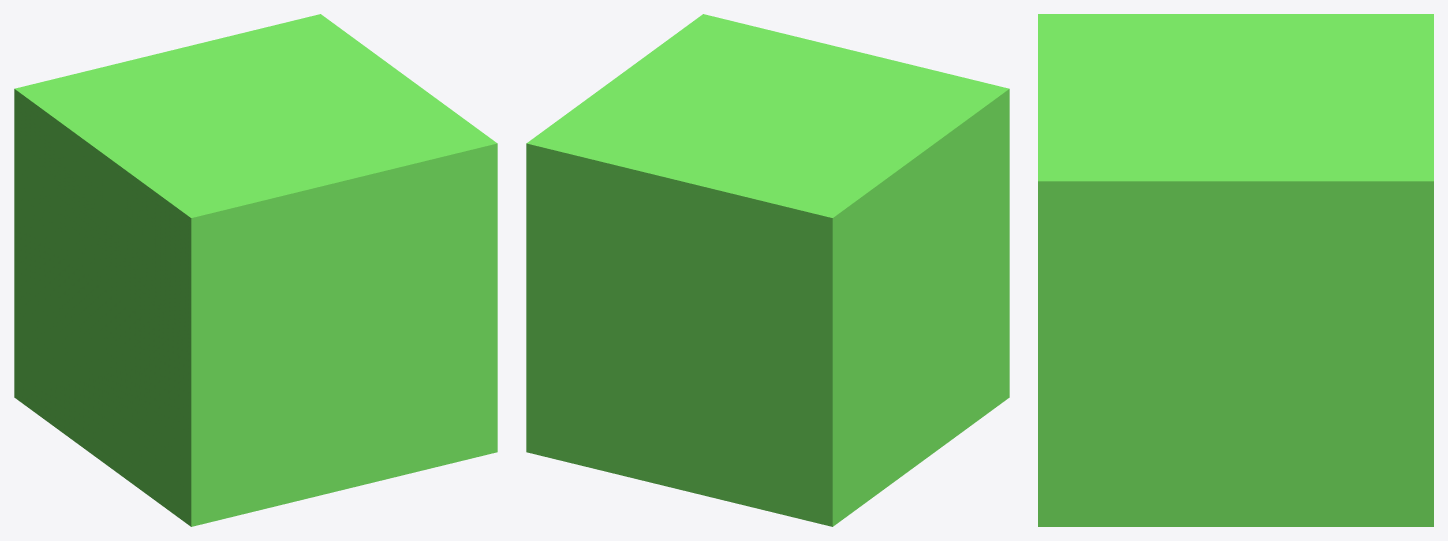
File: grass.fbx
The picture shows the model from 3 angles, left to right: view 1: azimuth 30°, elevation 25°; view 2: azimuth 150°, elevation 25°; view 3: azimuth 270°, elevation 25°; orthographic projection. The views are drawn at different scales.
Visible parts, largest first — view 1: 立方体; view 2: 立方体; view 3: 立方体.
Boxes of the visible parts, x1=… form: 立方体: x1=14, y1=14, x2=497, y2=526; 立方体: x1=526, y1=14, x2=1009, y2=526; 立方体: x1=1038, y1=14, x2=1433, y2=526.
Bounding box in the file's own units: 208 × 208 × 200.
